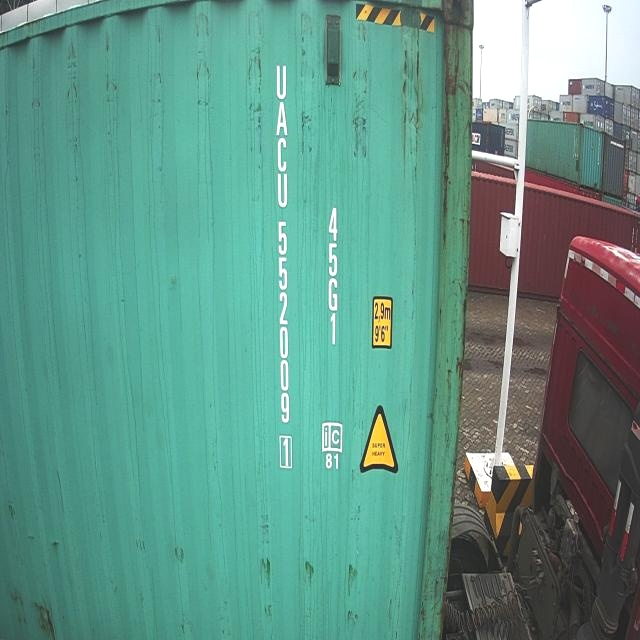Dent: (401, 65, 425, 135)
Rusty: (438, 4, 473, 199), (426, 479, 453, 640), (27, 580, 66, 640)
